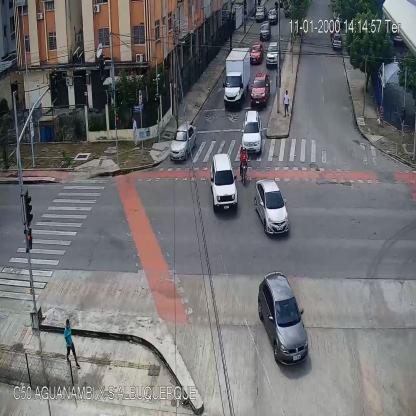car: (258, 275, 309, 363), (254, 179, 290, 234), (210, 152, 237, 212), (170, 121, 195, 159), (242, 111, 262, 155), (252, 73, 268, 103), (266, 42, 280, 67), (260, 22, 271, 42), (255, 7, 266, 23), (268, 10, 278, 26), (249, 44, 256, 63), (332, 36, 340, 50)
motorbike: (239, 146, 247, 184)
person: (64, 318, 79, 367), (132, 118, 140, 147), (284, 90, 290, 118)
truck: (224, 46, 250, 105)
